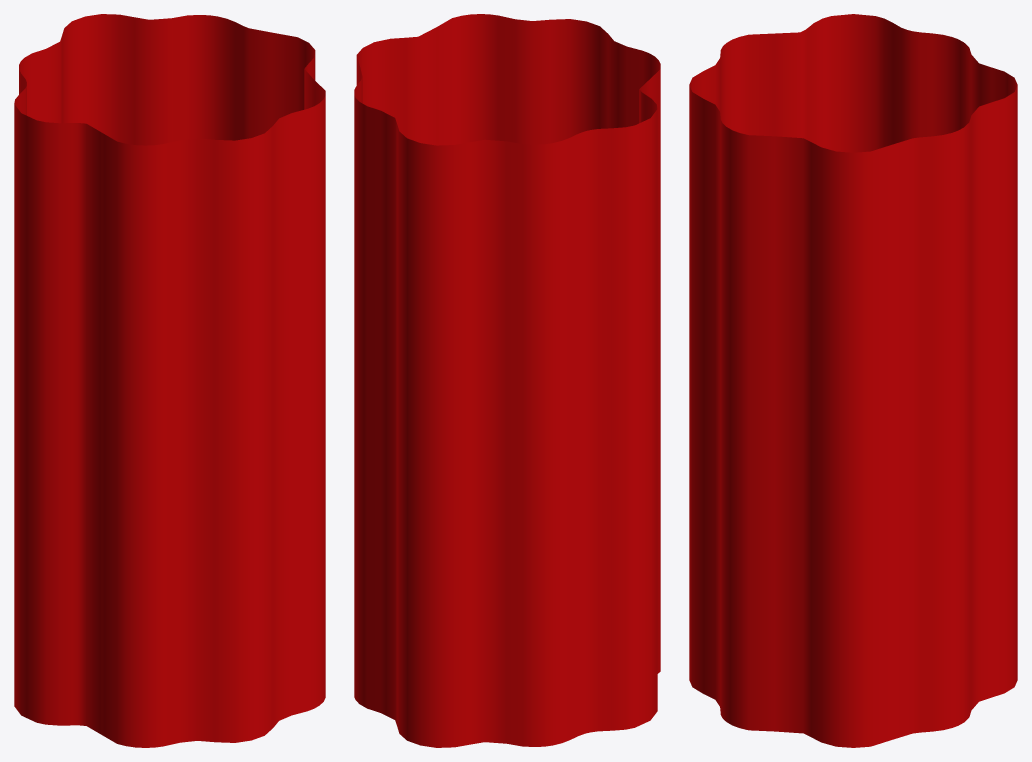
File: licorice_whip_mid.glb
3 views of the same model, side by side, from view 1: azimuth 30°, elevation 25°; view 2: azimuth 150°, elevation 25°; view 3: azimuth 270°, elevation 25° (orthographic).
Visible parts, largest first — view 1: Licorice_Mid; view 2: Licorice_Mid; view 3: Licorice_Mid.
Boxes of the visible parts, <box> form: Licorice_Mid: <box>14,14,325,747</box>; Licorice_Mid: <box>354,14,660,747</box>; Licorice_Mid: <box>689,14,1017,747</box>.
Size of the model in its own units: 0.05 by 0.1 by 0.05.
